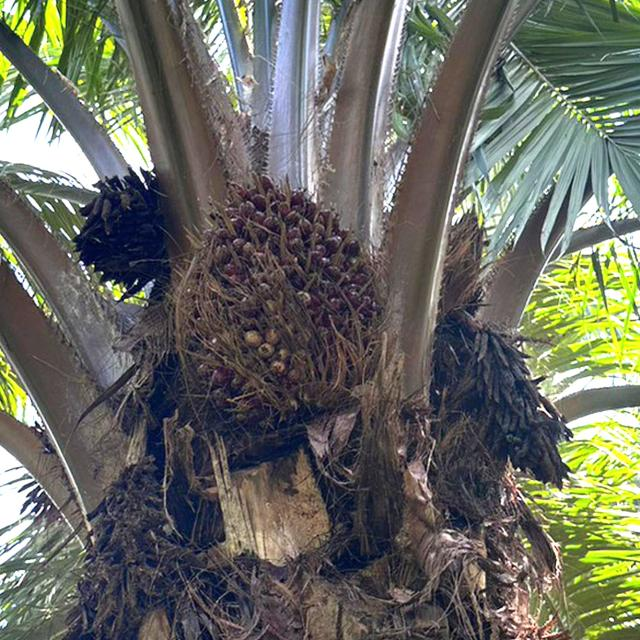ripe: (156, 158, 402, 438)
